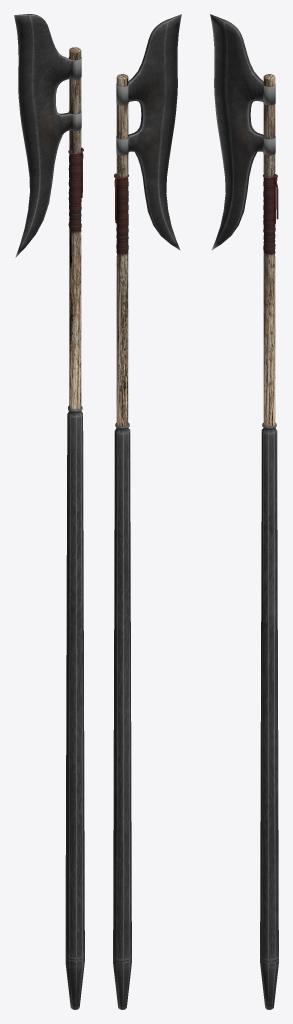
File: SM_Halberd_08.fbx
3 renders of one model, left to right at view 1: azimuth 30°, elevation 25°; view 2: azimuth 210°, elevation 25°; view 3: azimuth 330°, elevation 25°, orthographic. The views are drawn at different scales.
Visible parts, largest first — view 1: SM_Halberd_08_LOD0; view 2: SM_Halberd_08_LOD0; view 3: SM_Halberd_08_LOD0.
Boxes of the visible parts, box(x1,y1,x2,y2) form: SM_Halberd_08_LOD0: box(14, 14, 84, 1009); SM_Halberd_08_LOD0: box(113, 14, 181, 1009); SM_Halberd_08_LOD0: box(210, 14, 278, 1009).
Size of the model in its own units: 13.57 by 3.04 by 189.
Materials: 1 (1 with a texture image).
